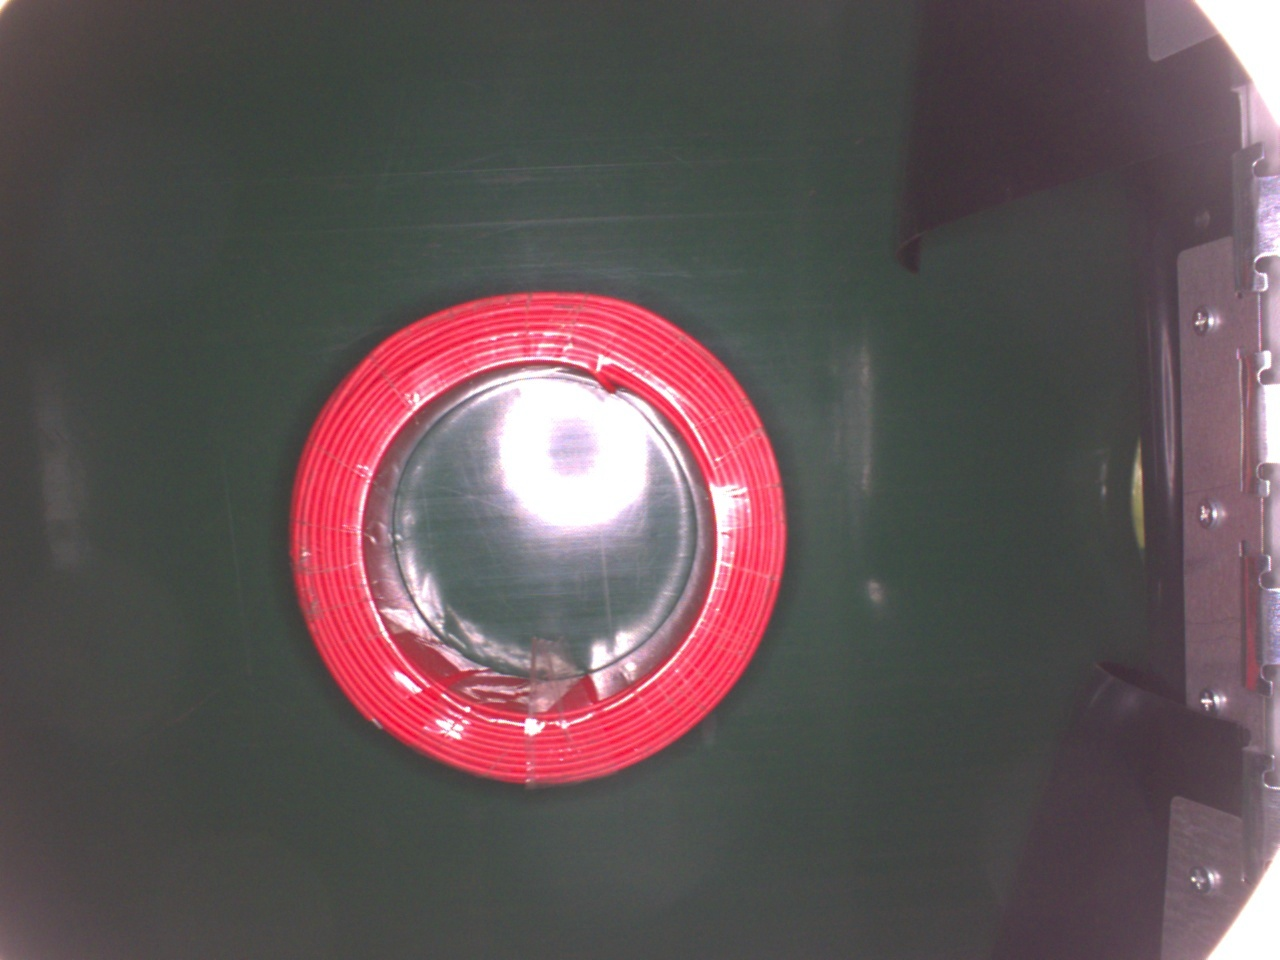red: (287, 287, 785, 792)
